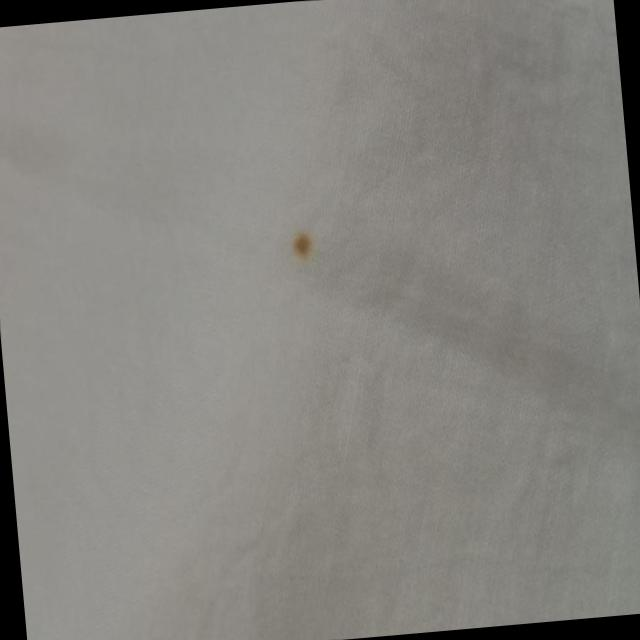stain: (276, 209, 328, 286)
